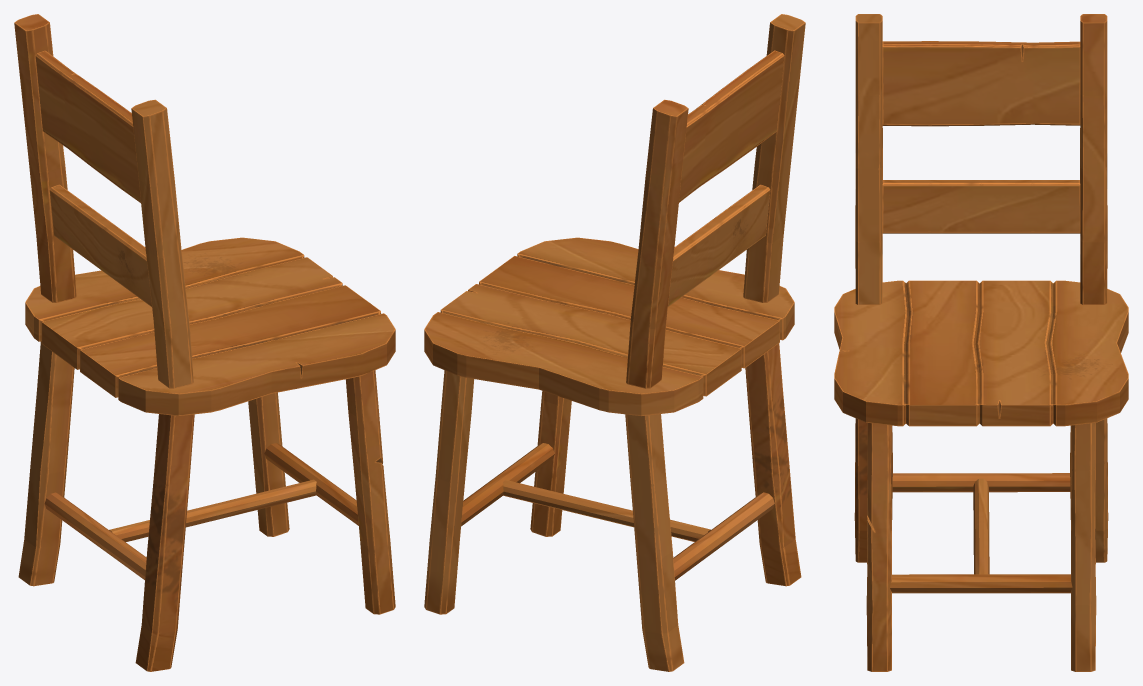
Rendered from Wooden Chair.fbx.
3 views of the same model, side by side, from view 1: azimuth 30°, elevation 25°; view 2: azimuth 150°, elevation 25°; view 3: azimuth 270°, elevation 25° (orthographic). The views are drawn at different scales.
Parts seen in each view (by area): view 1: Wooden Chair; view 2: Wooden Chair; view 3: Wooden Chair.
Part boxes in pixels (<box>): Wooden Chair: <box>14,14,395,671</box>; Wooden Chair: <box>424,14,805,671</box>; Wooden Chair: <box>834,14,1128,671</box>.
Size of the model in its own units: 60 by 122 by 60.
